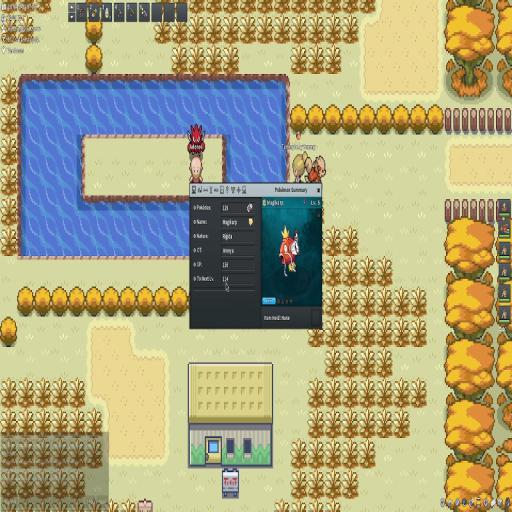SKIPANOUCE: (192, 182, 314, 330)
